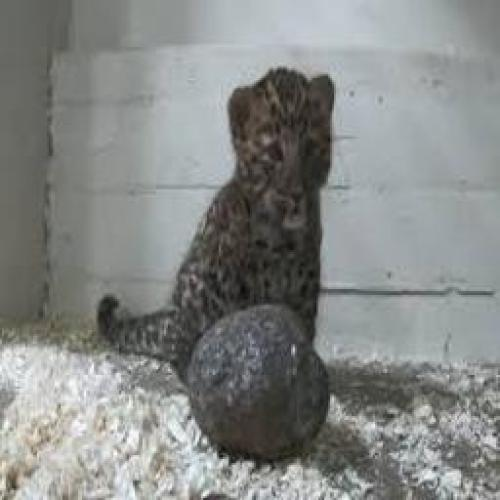amur_leopard-endangered: (96, 66, 336, 375)
